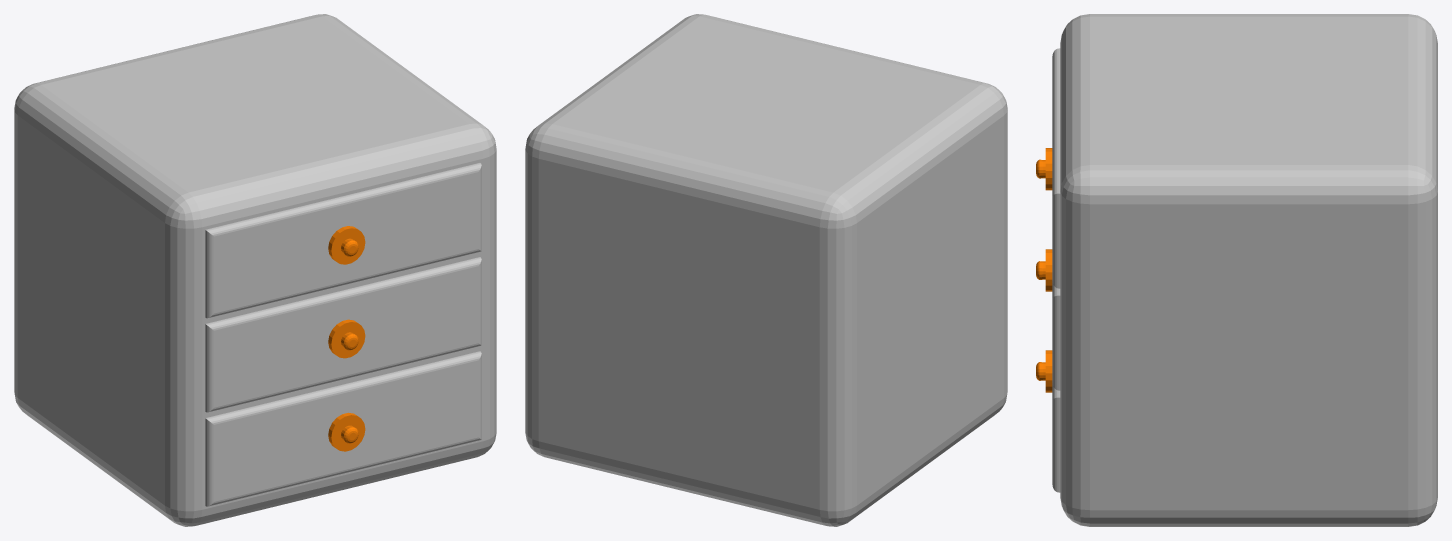
Rendered from Wardrobe_14.fbx.
3 views of the same model, side by side, from view 1: azimuth 30°, elevation 25°; view 2: azimuth 150°, elevation 25°; view 3: azimuth 270°, elevation 25° (orthographic). The views are drawn at different scales.
Parts seen in each view (by area): view 1: Wardrobe_14, Wardrobe_14 Door_2, Wardrobe_14 Door_3, Wardrobe_14 Door_1; view 2: Wardrobe_14; view 3: Wardrobe_14, Wardrobe_14 Door_1, Wardrobe_14 Door_2, Wardrobe_14 Door_3.
Boxes of the visible parts, <box> form: Wardrobe_14: <box>14,14,496,526</box>; Wardrobe_14 Door_2: <box>205,351,481,506</box>; Wardrobe_14 Door_3: <box>205,257,481,412</box>; Wardrobe_14 Door_1: <box>205,163,481,318</box>; Wardrobe_14: <box>525,14,1007,526</box>; Wardrobe_14: <box>1060,14,1437,526</box>; Wardrobe_14 Door_1: <box>1036,48,1060,288</box>; Wardrobe_14 Door_2: <box>1036,350,1060,492</box>; Wardrobe_14 Door_3: <box>1036,249,1060,390</box>.
Bounding box in the file's own units: 0.4773 × 0.4613 × 0.4674.
